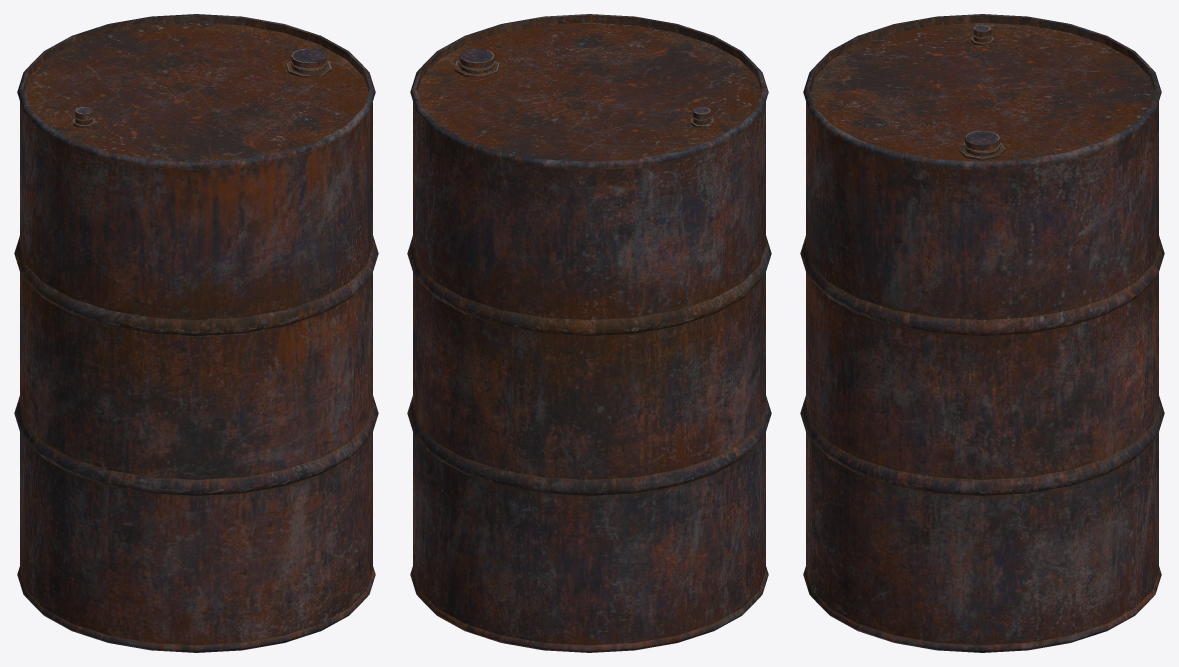
3 renders of one model, left to right at view 1: azimuth 30°, elevation 25°; view 2: azimuth 150°, elevation 25°; view 3: azimuth 270°, elevation 25°, orthographic.
Parts seen in each view (by area): view 1: Barrel_low; view 2: Barrel_low; view 3: Barrel_low.
Boxes of the visible parts, left/top/right/bottom form: Barrel_low: left=14, top=14, right=378, bottom=652; Barrel_low: left=407, top=14, right=771, bottom=652; Barrel_low: left=800, top=14, right=1164, bottom=652.
Bounding box in the file's own units: 0.5866 × 0.8796 × 0.5866.
1 material, 1 textured.
